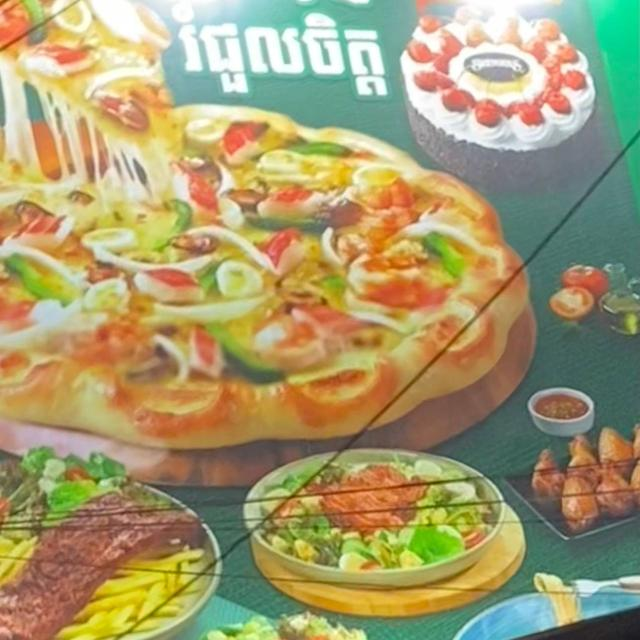Yolov11kh: (165, 1, 407, 114)
